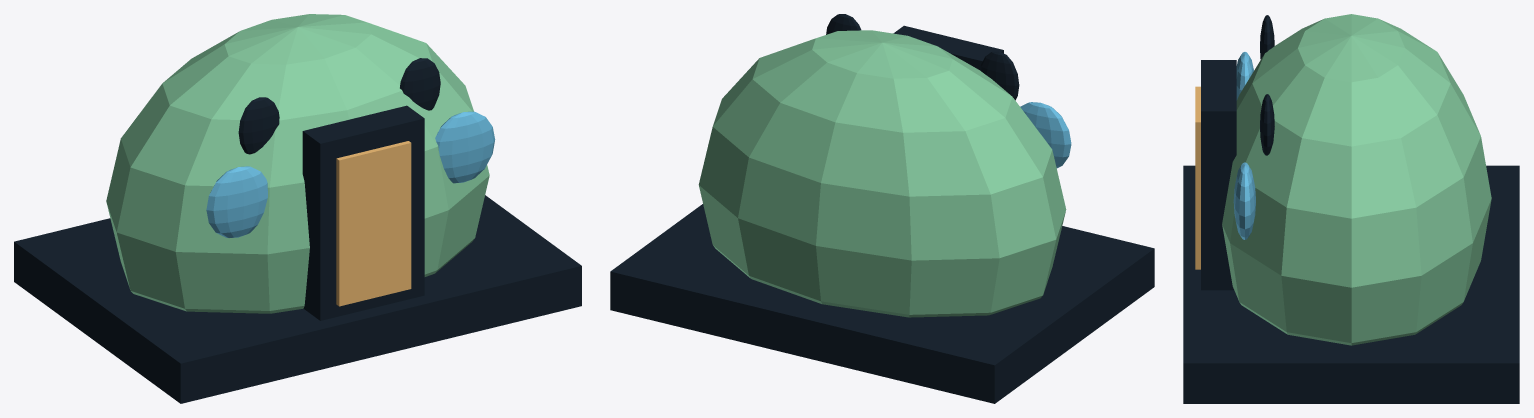
File: station-greenhouse.glb
The picture shows the model from 3 angles, left to right: view 1: azimuth 30°, elevation 25°; view 2: azimuth 150°, elevation 25°; view 3: azimuth 270°, elevation 25°; orthographic projection. The views are drawn at different scales.
Visible parts, largest first — view 1: habitat-shell, foundation, door-rim, warm-door, window (×2), garden-leaf (×2); view 2: habitat-shell, foundation, window, garden-leaf (×2), door-rim; view 3: habitat-shell, foundation, door-rim, window (×2), garden-leaf (×2), warm-door.
Part boxes in pixels (x1,y1,x2,y2): habitat-shell: [106, 14, 489, 313]; foundation: [14, 195, 581, 403]; door-rim: [302, 105, 424, 320]; warm-door: [336, 141, 411, 306]; window (×2): [206, 111, 495, 237]; garden-leaf (×2): [238, 58, 440, 154]; habitat-shell: [698, 30, 1066, 317]; foundation: [610, 204, 1154, 403]; window: [1020, 102, 1071, 168]; garden-leaf (×2): [826, 14, 1019, 100]; door-rim: [893, 25, 1003, 69]; habitat-shell: [1222, 14, 1491, 345]; foundation: [1183, 165, 1519, 403]; door-rim: [1201, 60, 1236, 290]; window (×2): [1233, 52, 1255, 239]; garden-leaf (×2): [1260, 15, 1274, 155]; warm-door: [1195, 86, 1200, 269].
Size of the model in its own units: 2.5 by 1.92 by 1.8.
